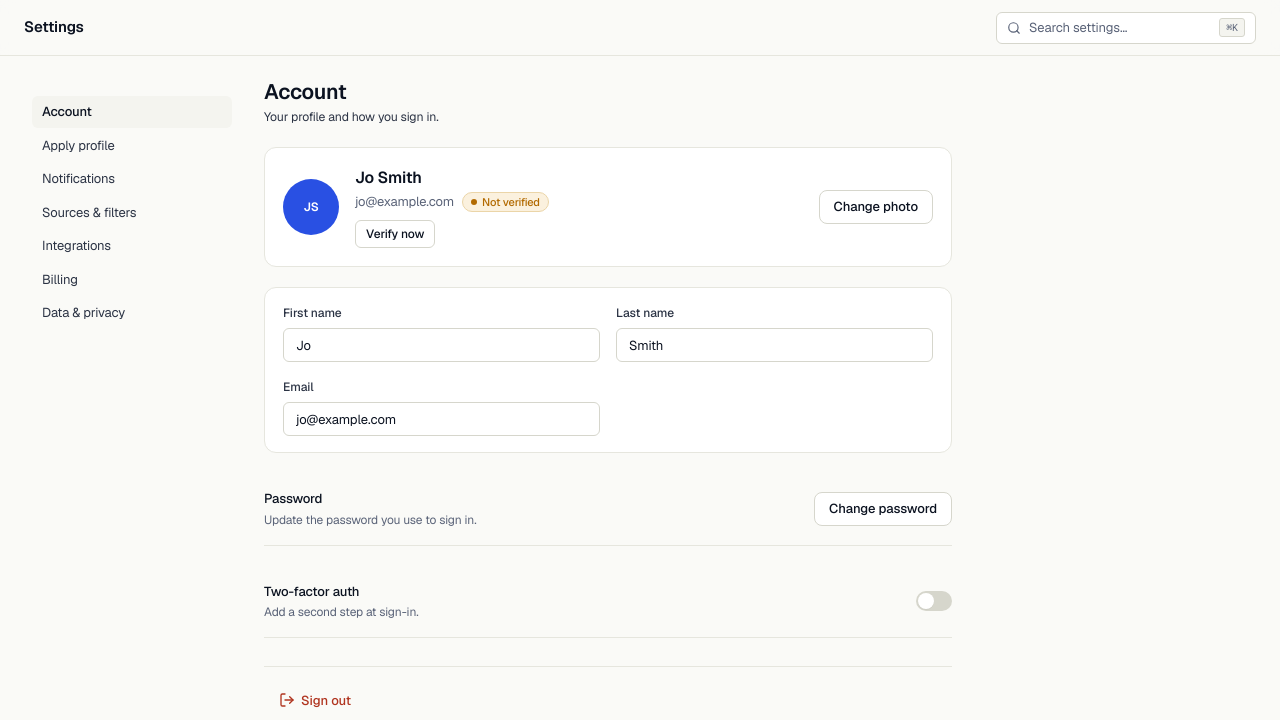
Test: TC-154: interviewReminderEmail sub-toggle is disabled/greyed when master is off › shows toggle-interviewReminderEmail with aria-disabled when interviewReminders is false
Click the link "Notifications" at (78, 178), box x1=42 y1=170 x2=115 y2=187
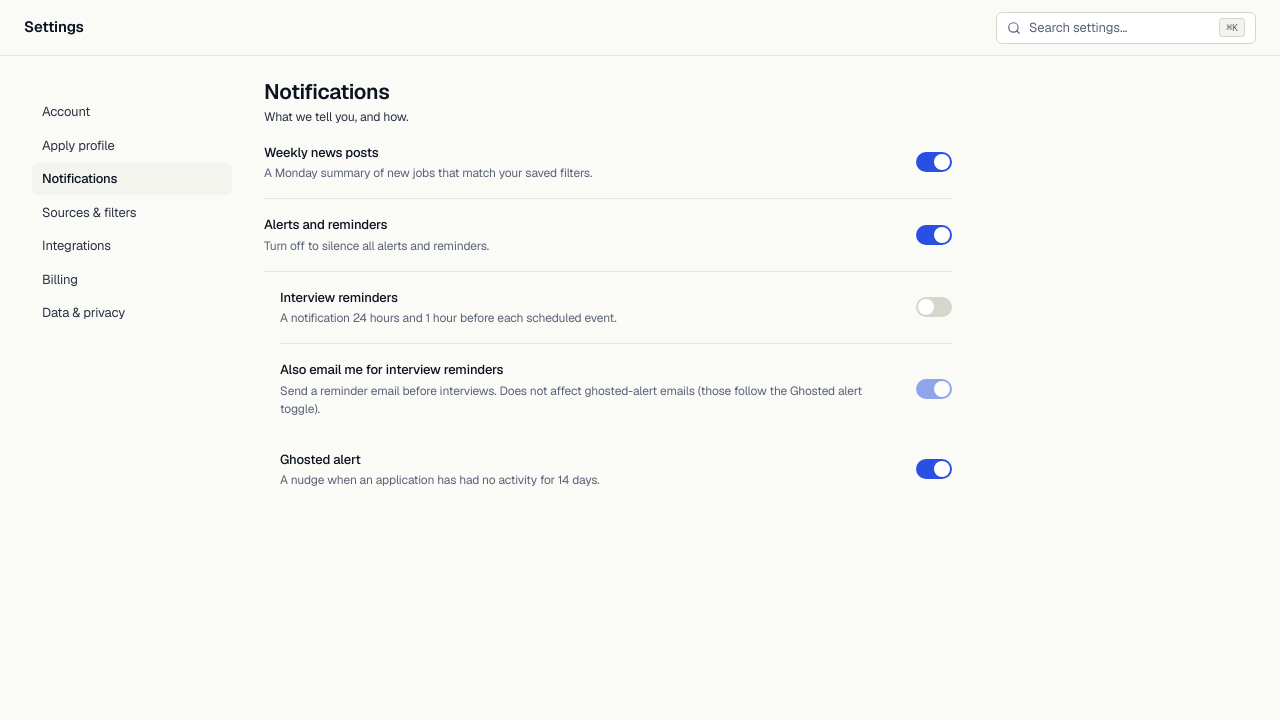
Check: the switch with test id "toggle-interviewReminderEmail" is shown, box x1=916 y1=379 x2=952 y2=399
